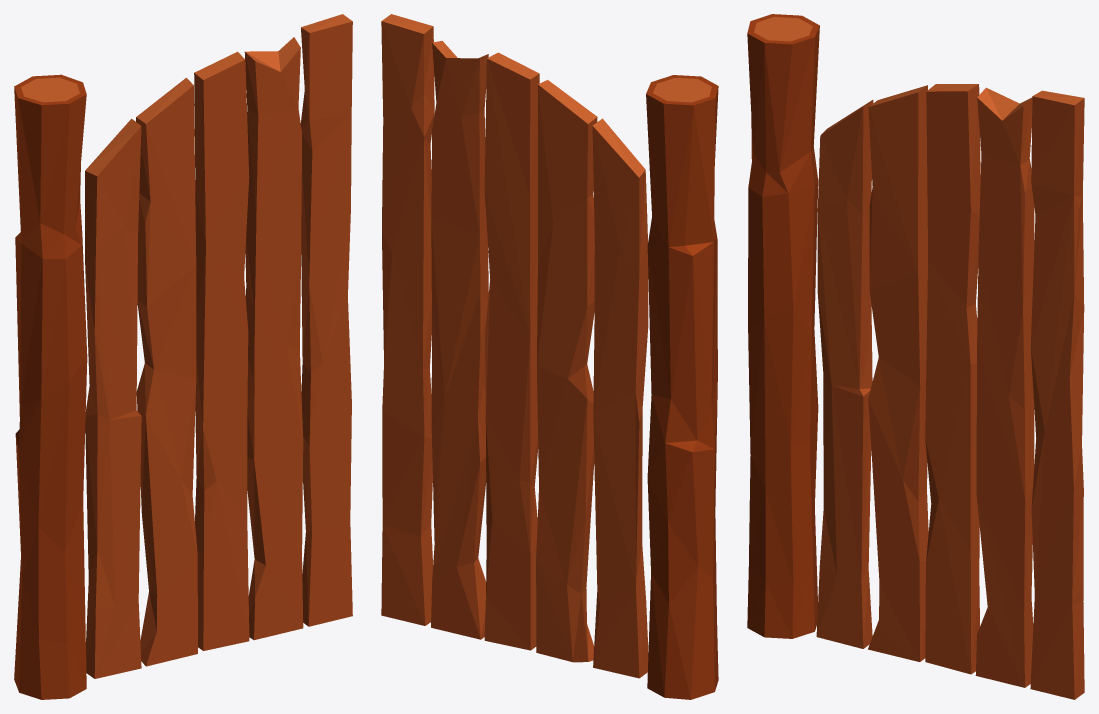
Rendered from Door_01.fbx.
3 views of the same model, side by side, from view 1: azimuth 30°, elevation 25°; view 2: azimuth 150°, elevation 25°; view 3: azimuth 330°, elevation 25° (orthographic).
Visible parts, largest first — view 1: Cube.007; view 2: Cube.007; view 3: Cube.007.
Part boxes in pixels (bbox=[...]): Cube.007: bbox=[14, 14, 352, 699]; Cube.007: bbox=[381, 14, 718, 699]; Cube.007: bbox=[747, 14, 1084, 699].
Size of the model in its own units: 429 by 742 by 84.17.
